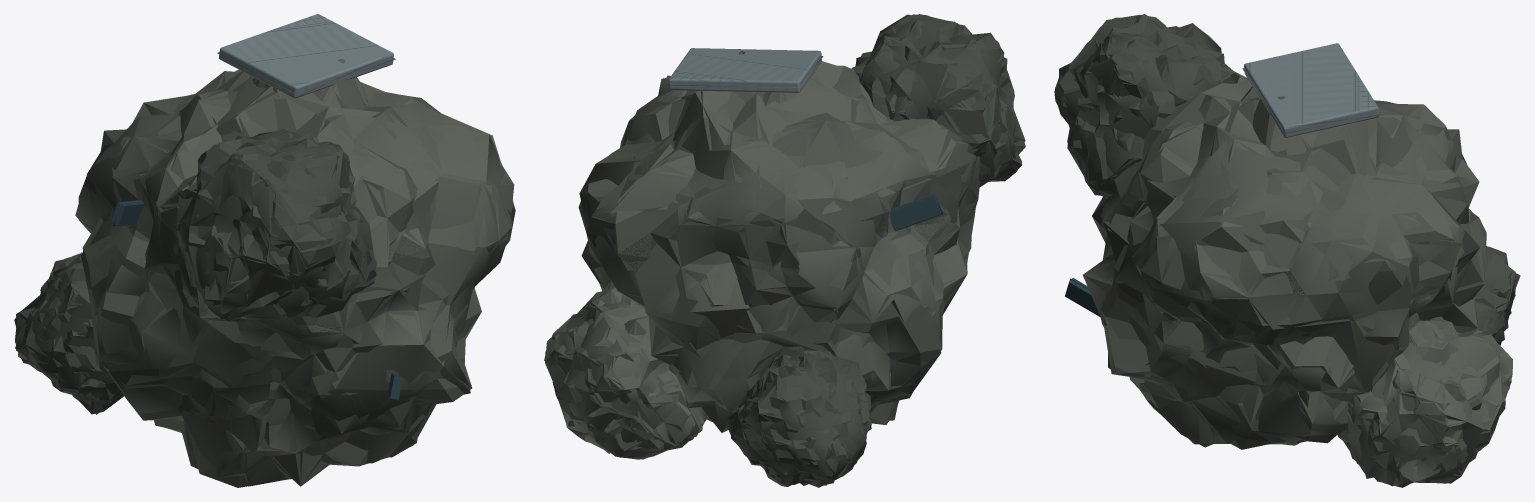
The model's file is place_asteroid_rock_b.glb.
3 renders of one model, left to right at view 1: azimuth 30°, elevation 25°; view 2: azimuth 150°, elevation 25°; view 3: azimuth 270°, elevation 25°, orthographic. The views are drawn at different scales.
Visible parts, largest first — view 1: LOD2_Stone, LOD0_Stone, LOD1_Stone, LOD0_Stone_deep, LOD2_Stone_deep, LOD2_Stone_strata, LOD1_Stone_deep, LOD0_Stone_strata, LOD0_Ceramic_ice, LOD1_Stone_strata, LOD0_CANOPY; view 2: LOD2_Stone, LOD0_Stone, LOD1_Stone, LOD0_Stone_deep, LOD2_Stone_deep, LOD1_Stone_deep, LOD2_Stone_strata, LOD0_Stone_strata, LOD0_Ceramic_ice, LOD1_Stone_strata, LOD0_CANOPY; view 3: LOD0_Stone, LOD2_Stone, LOD1_Stone, LOD2_Stone_strata, LOD2_Stone_deep, LOD0_Stone_strata, LOD0_Ceramic_ice, LOD0_Stone_deep, LOD1_Stone_strata, LOD1_Stone_deep, LOD0_CANOPY.
Part boxes in pixels (bbox=[...]): LOD2_Stone: bbox=[81, 59, 515, 487]; LOD0_Stone: bbox=[78, 71, 514, 486]; LOD1_Stone: bbox=[75, 71, 513, 487]; LOD0_Stone_deep: bbox=[14, 131, 376, 414]; LOD2_Stone_deep: bbox=[18, 131, 376, 414]; LOD2_Stone_strata: bbox=[87, 116, 509, 451]; LOD1_Stone_deep: bbox=[15, 128, 374, 414]; LOD0_Stone_strata: bbox=[83, 130, 500, 431]; LOD0_Ceramic_ice: bbox=[219, 14, 393, 98]; LOD1_Stone_strata: bbox=[86, 129, 511, 440]; LOD0_CANOPY: bbox=[110, 200, 402, 399]; LOD2_Stone: bbox=[545, 51, 979, 456]; LOD0_Stone: bbox=[544, 61, 978, 459]; LOD1_Stone: bbox=[545, 69, 975, 459]; LOD0_Stone_deep: bbox=[726, 14, 1025, 485]; LOD2_Stone_deep: bbox=[728, 14, 1025, 486]; LOD1_Stone_deep: bbox=[726, 14, 1024, 487]; LOD2_Stone_strata: bbox=[579, 157, 980, 432]; LOD0_Stone_strata: bbox=[579, 159, 980, 431]; LOD0_Ceramic_ice: bbox=[668, 48, 821, 92]; LOD1_Stone_strata: bbox=[578, 156, 977, 409]; LOD0_CANOPY: bbox=[889, 195, 941, 230]; LOD0_Stone: bbox=[1083, 71, 1512, 487]; LOD2_Stone: bbox=[1083, 72, 1509, 486]; LOD1_Stone: bbox=[1083, 88, 1511, 487]; LOD2_Stone_strata: bbox=[1092, 144, 1477, 444]; LOD2_Stone_deep: bbox=[1055, 14, 1515, 342]; LOD0_Stone_strata: bbox=[1092, 129, 1480, 442]; LOD0_Ceramic_ice: bbox=[1244, 43, 1379, 137]; LOD0_Stone_deep: bbox=[1054, 15, 1520, 345]; LOD1_Stone_strata: bbox=[1094, 129, 1478, 443]; LOD1_Stone_deep: bbox=[1055, 15, 1519, 344]; LOD0_CANOPY: bbox=[1065, 278, 1100, 316].
Size of what is drawn, in the model's own units: 7.62 by 7.87 by 8.84.
Materials: 5 (1 with a texture image).
